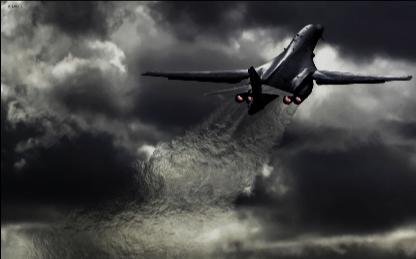AV8B: (140, 24, 412, 114)
